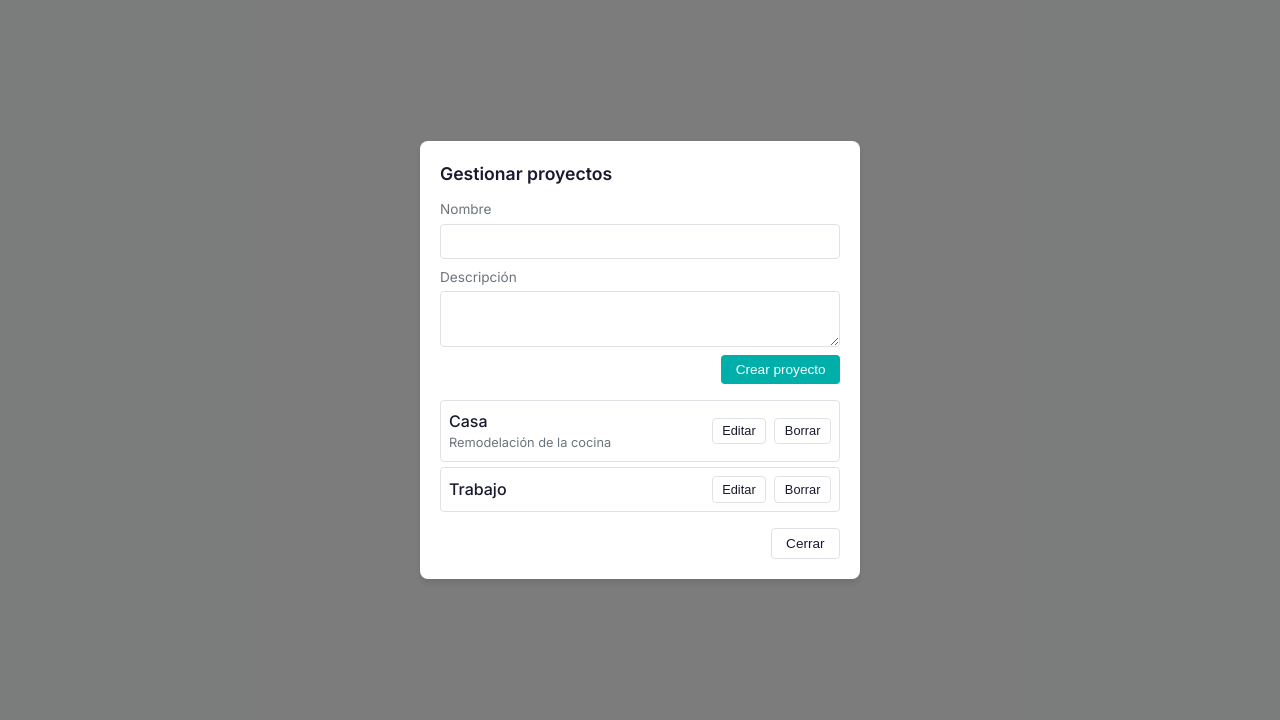
Test: ManageProjectsModal › flags a blank project name instead of silently ignoring it
Click the button "Crear proyecto" at (781, 370), box [721,355,840,384]
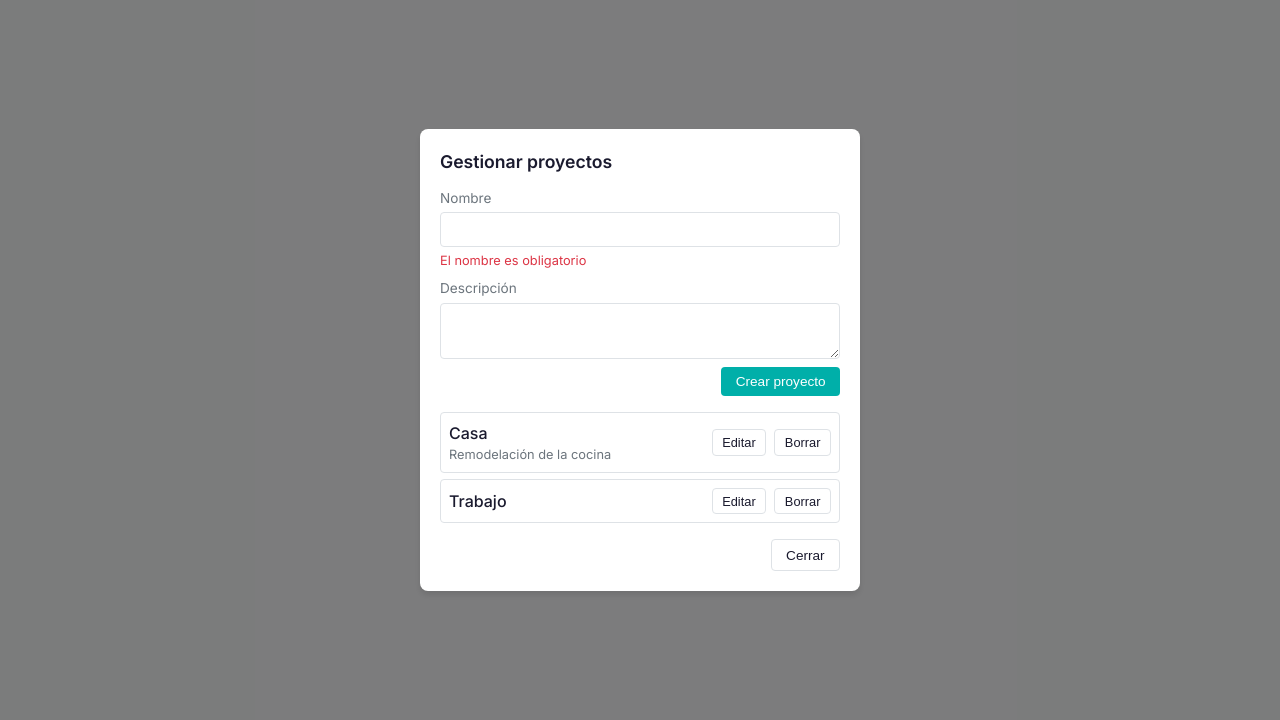
Now the text "El nombre es obligatorio" is shown, box [440,253,586,268]
